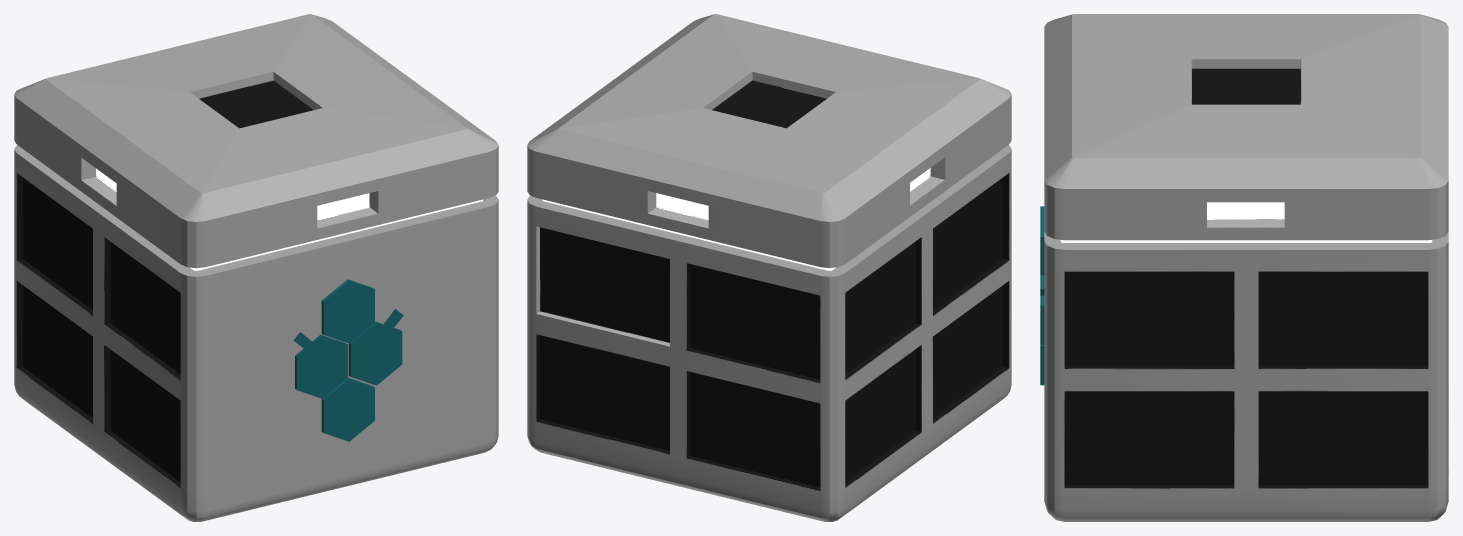
Rendered from CratesTexture.fbx.
3 renders of one model, left to right at view 1: azimuth 30°, elevation 25°; view 2: azimuth 150°, elevation 25°; view 3: azimuth 270°, elevation 25°, orthographic. The views are drawn at different scales.
Visible parts, largest first — view 1: polySurface5, polySurface6, pPlane3, pPlane7, pPlane8, pPlane1; view 2: polySurface5, polySurface6; view 3: polySurface5, polySurface6.
Boxes of the visible parts, x1,y1,x2,y2 form: polySurface5: (14, 145, 498, 521); polySurface6: (14, 14, 498, 270); pPlane3: (349, 309, 403, 385); pPlane7: (293, 332, 348, 398); pPlane8: (321, 279, 374, 343); pPlane1: (321, 377, 374, 441); polySurface5: (527, 145, 1011, 521); polySurface6: (527, 14, 1011, 270); polySurface5: (1044, 232, 1448, 521); polySurface6: (1044, 14, 1448, 242).
Bounding box in the file's own units: 10 × 9.87 × 10.1.
Materials: 1 (1 with a texture image).
